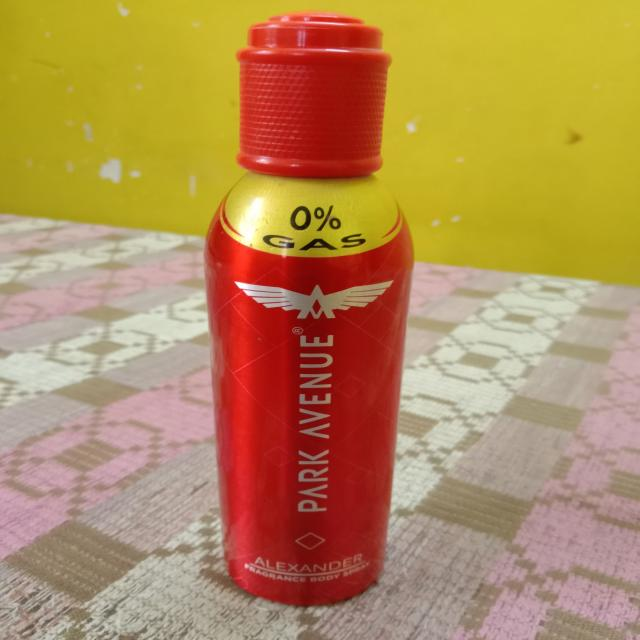deodorant: (205, 20, 409, 609)
